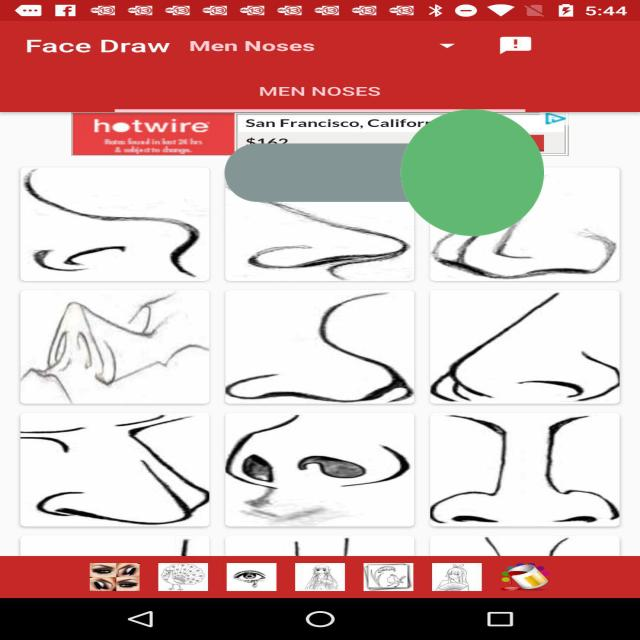social proof: (225, 31, 544, 314)
